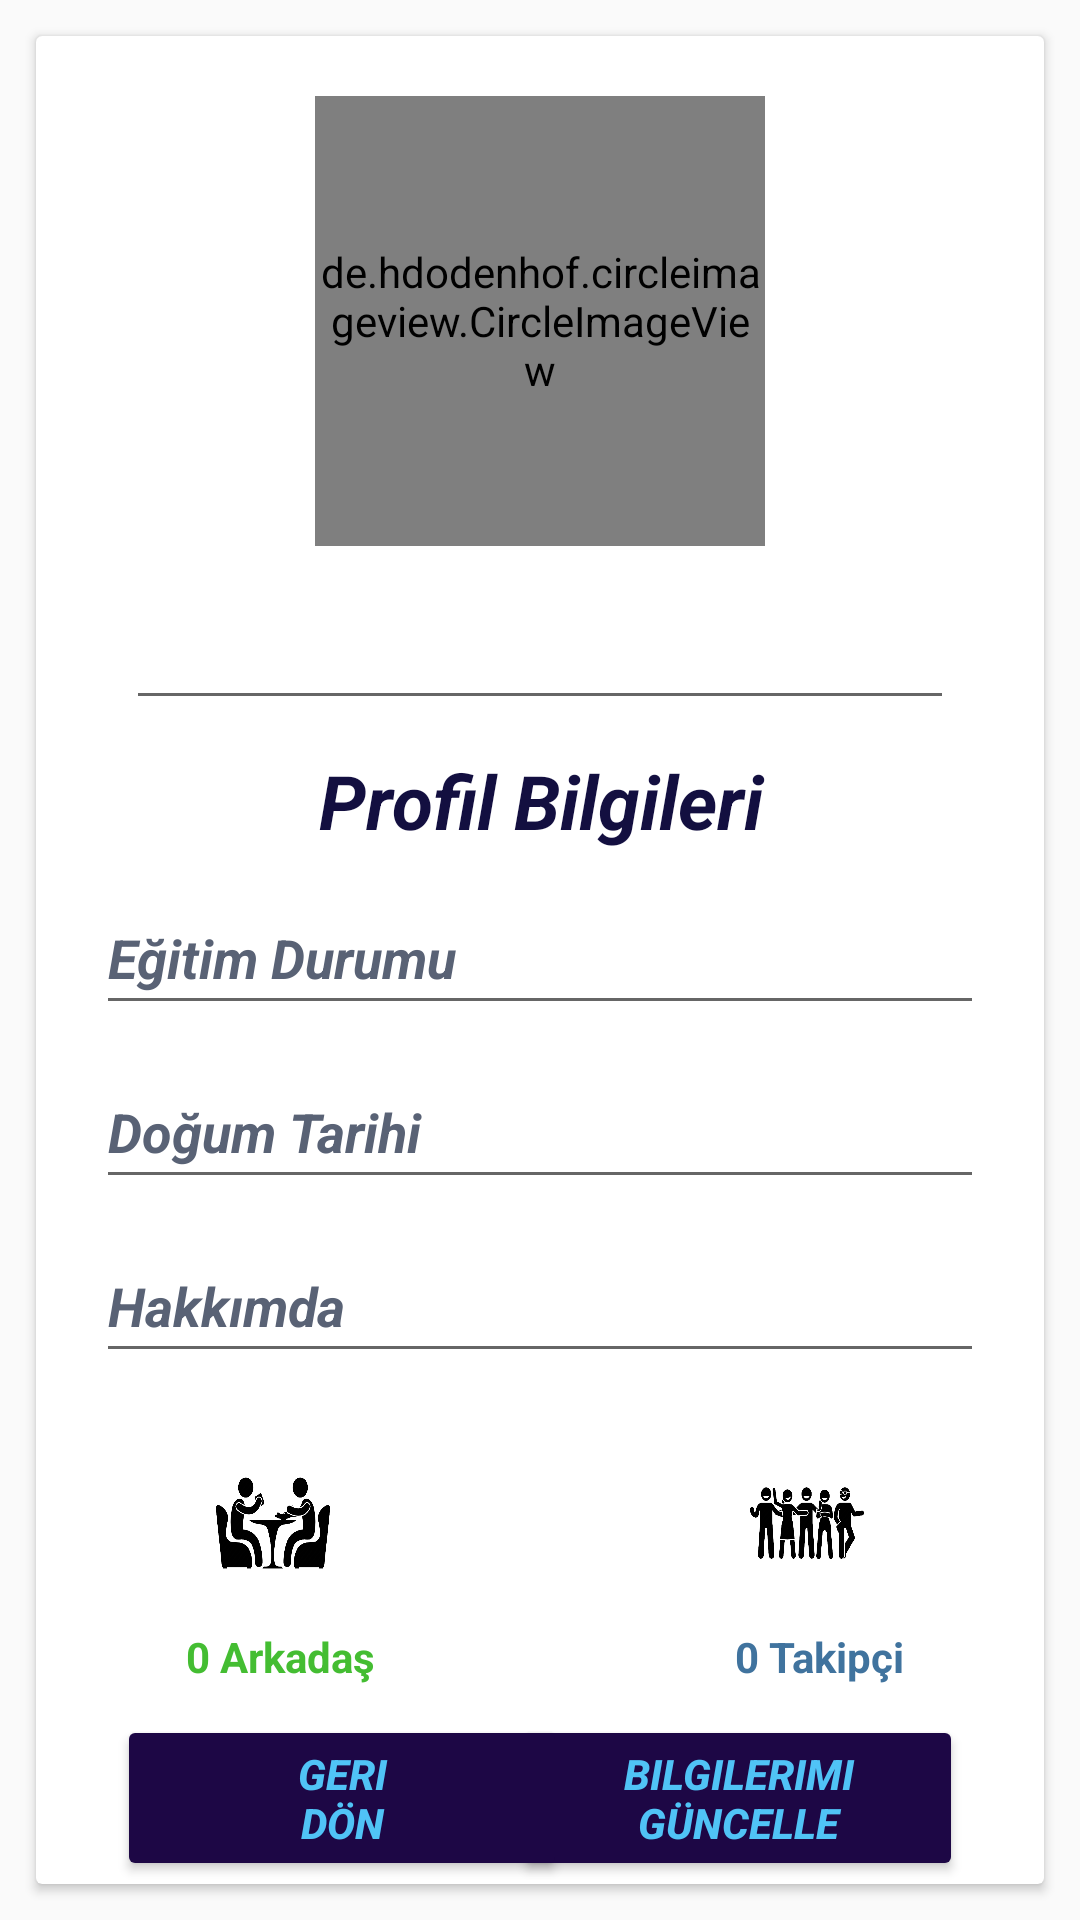

Screen size 1080x1920. Icon name, then its center in pixels as (x,y):
arklar: (273,1523)
takipciler: (807,1523)
